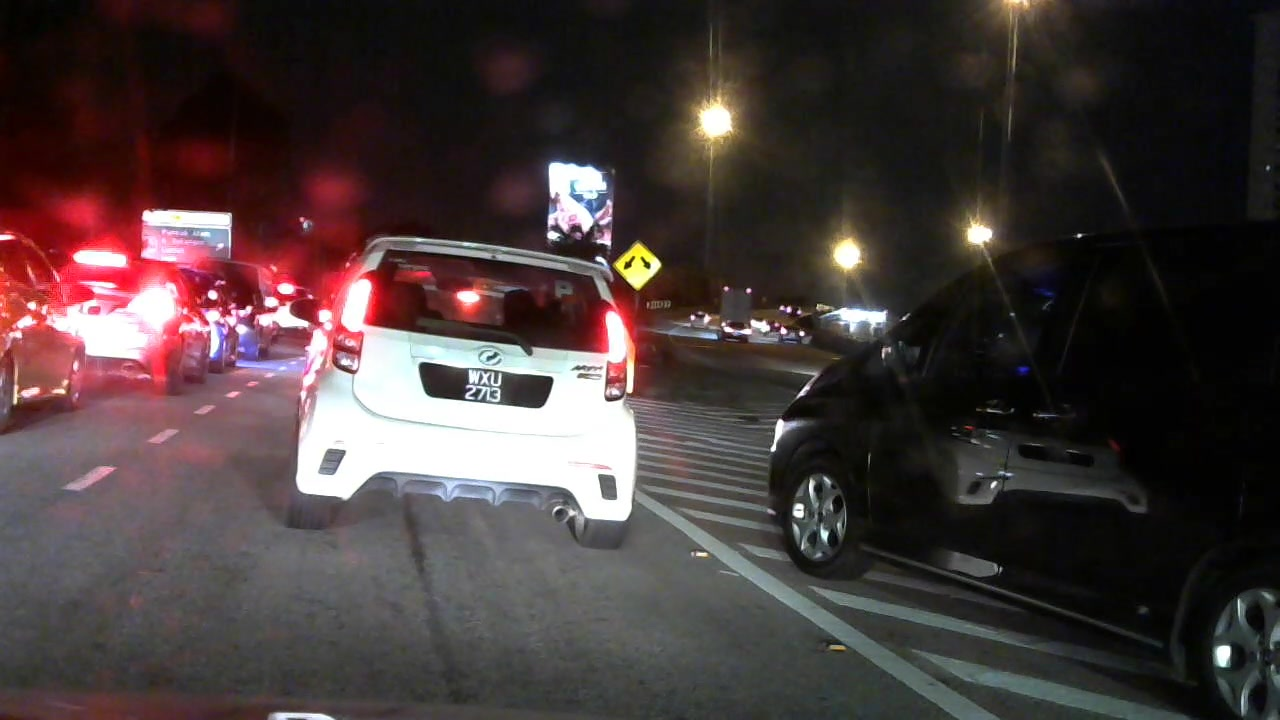Car: (771, 175, 1280, 706), (295, 213, 647, 552), (55, 236, 217, 393), (1, 207, 87, 451), (205, 272, 280, 355), (188, 263, 245, 369), (714, 320, 762, 348), (768, 315, 808, 346), (687, 303, 711, 333)
